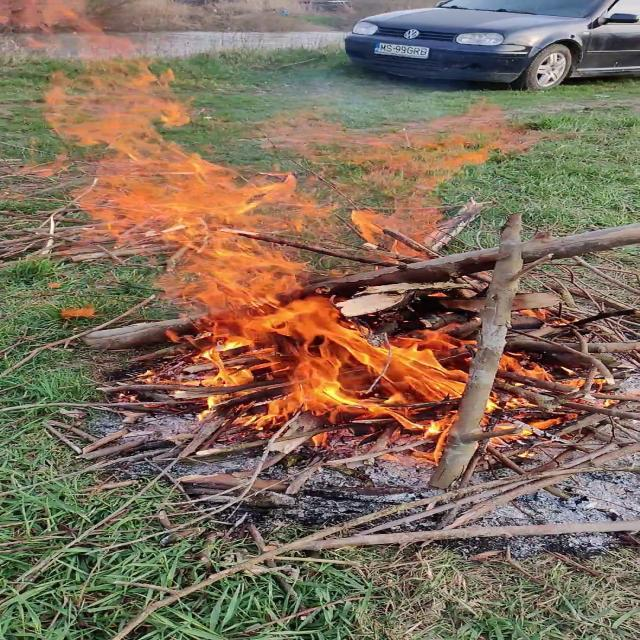Fire: (28, 90, 542, 448)
